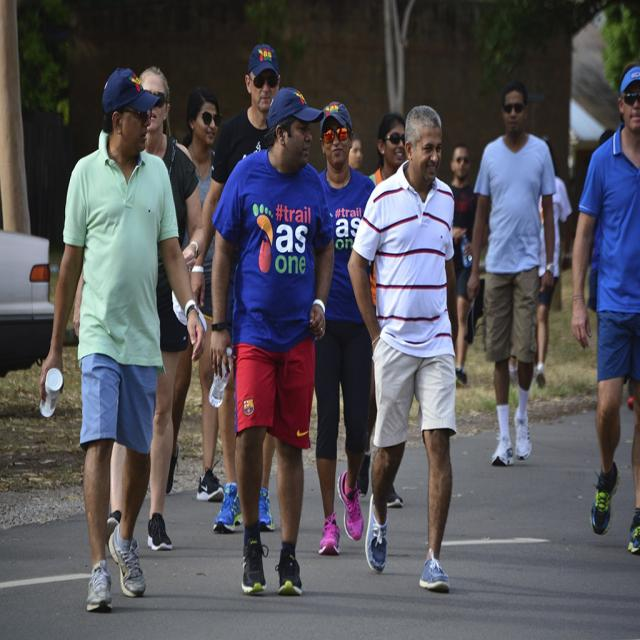body: (36, 64, 208, 616), (208, 81, 336, 598), (346, 103, 461, 596), (104, 64, 205, 554), (189, 40, 284, 534), (464, 78, 560, 471), (308, 97, 383, 560), (570, 64, 639, 558), (163, 86, 226, 502), (566, 124, 640, 418), (357, 110, 408, 510), (534, 173, 574, 388), (446, 141, 480, 387), (341, 110, 423, 188)
